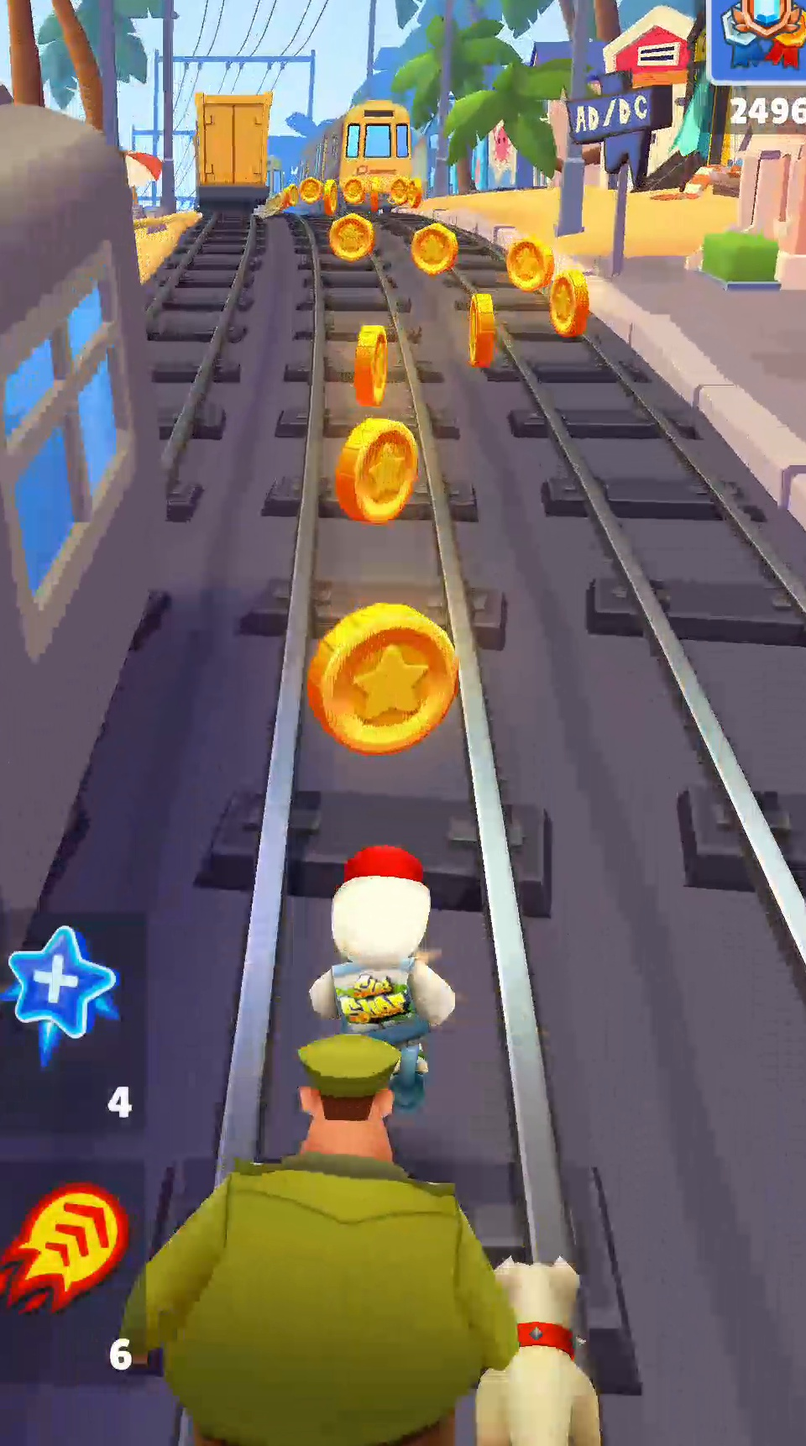police: (122, 1035, 518, 1445)
train: (0, 105, 162, 942), (298, 98, 414, 207), (196, 93, 271, 210), (266, 155, 284, 194)
